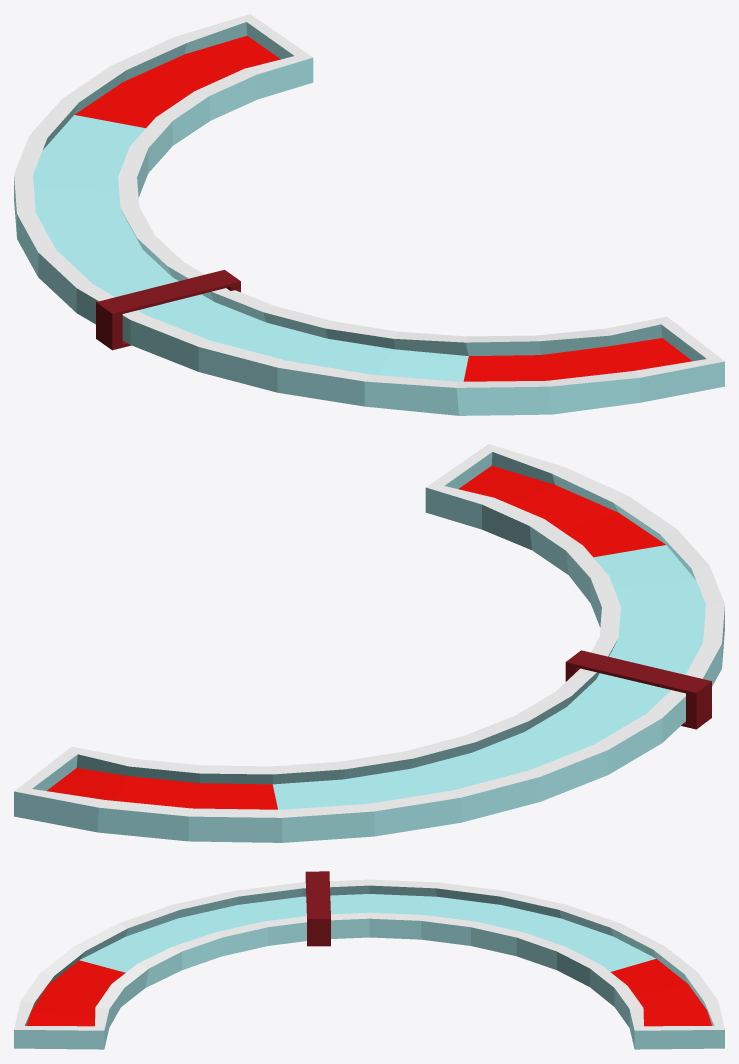
The model's file is Meter.fbx.
3 views of the same model, one above another, from view 1: azimuth 30°, elevation 25°; view 2: azimuth 150°, elevation 25°; view 3: azimuth 270°, elevation 25° (orthographic). The views are drawn at different scales.
Parts seen in each view (by area): view 1: Circle, Plane; view 2: Circle, Plane; view 3: Circle, Plane.
Boxes of the visible parts, box(x1,y1,x2,y2) form: Circle: box(14, 14, 724, 415); Plane: box(96, 270, 240, 350); Circle: box(14, 444, 724, 842); Plane: box(565, 650, 711, 729); Circle: box(14, 879, 724, 1049); Plane: box(305, 871, 330, 946).
Bounding box in the file's own units: 102 × 8.49 × 200.
